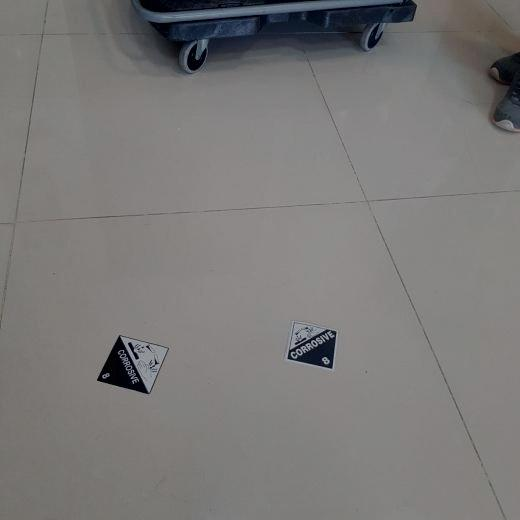corrosive: (95, 334, 170, 395), (284, 320, 338, 370)
